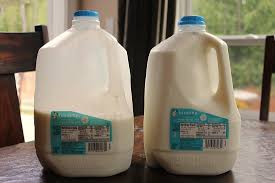milk: (38, 12, 135, 175), (147, 15, 242, 175)
